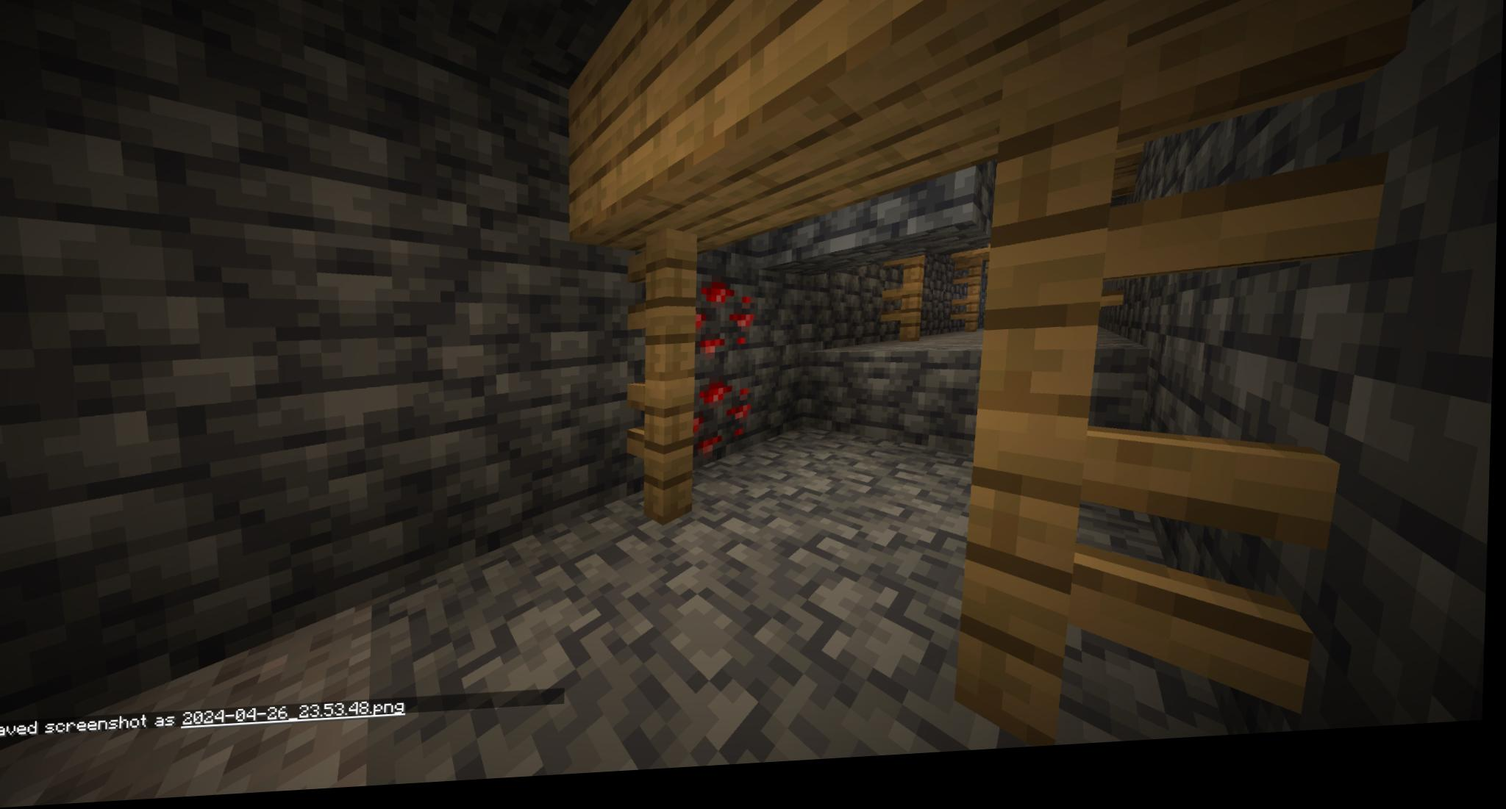redstone ore: (684, 286, 765, 472)
